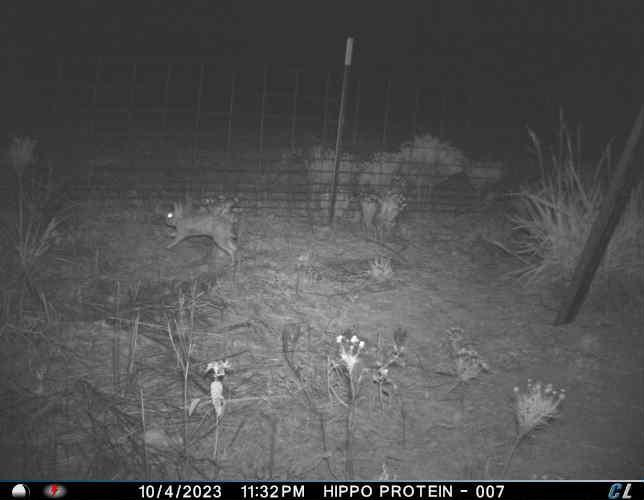Rabbit: (163, 198, 239, 259)
